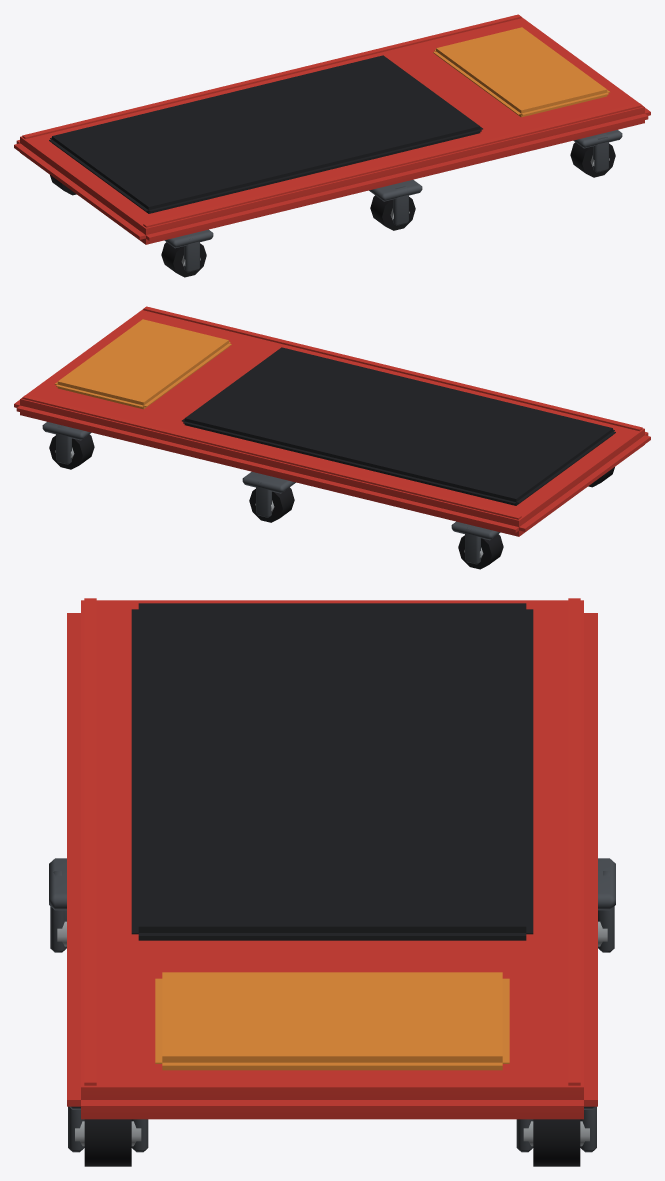
Rendered from SM_Creeper_01.glb.
3 renders of one model, top to bottom at view 1: azimuth 30°, elevation 25°; view 2: azimuth 150°, elevation 25°; view 3: azimuth 270°, elevation 25°, orthographic. The views are drawn at different scales.
Parts seen in each view (by area): view 1: SM_Creeper_01; view 2: SM_Creeper_01; view 3: SM_Creeper_01.
Part boxes in pixels (bbox=[...]): SM_Creeper_01: bbox=[14, 14, 650, 277]; SM_Creeper_01: bbox=[14, 306, 650, 569]; SM_Creeper_01: bbox=[49, 598, 615, 1166].
Size of the model in its own units: 1 by 0.1234 by 0.48.
Materials: 1 (1 with a texture image).
